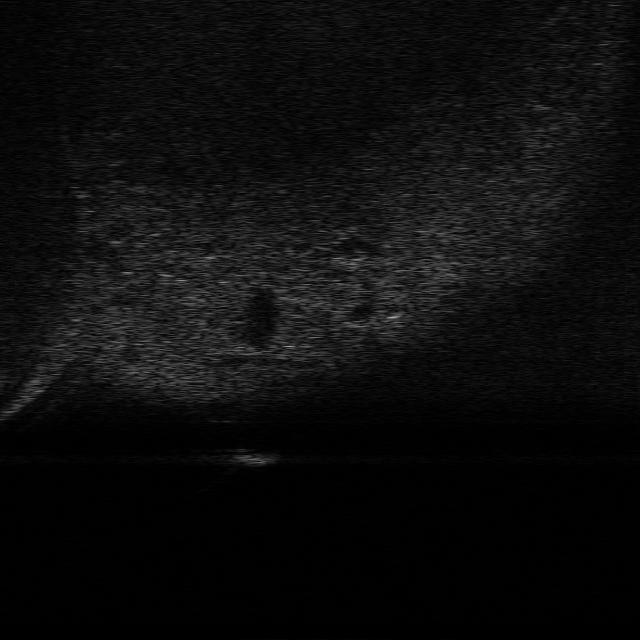cube: (229, 445, 281, 469)
